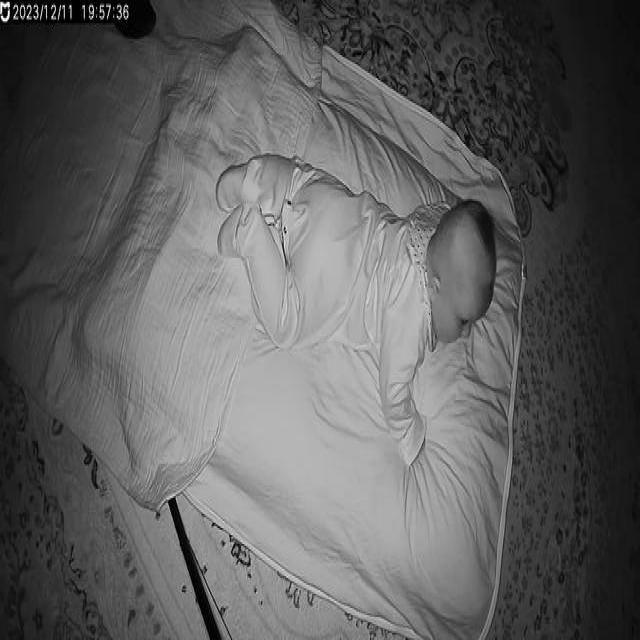baby: (209, 143, 499, 471)
